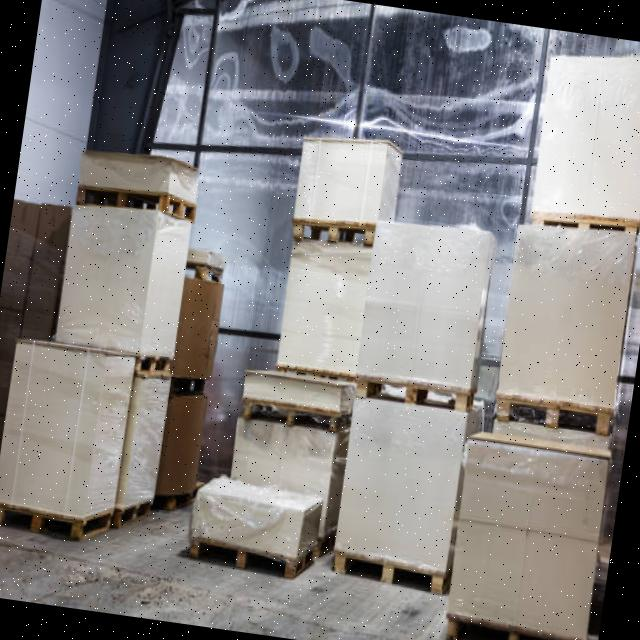Wooden-Pallets: (185, 528, 316, 588), (0, 482, 117, 545), (327, 547, 443, 607), (496, 385, 616, 442), (523, 200, 640, 256), (352, 371, 474, 418), (71, 184, 200, 227), (239, 392, 347, 438), (284, 206, 378, 258), (441, 611, 587, 640), (135, 350, 175, 378)
